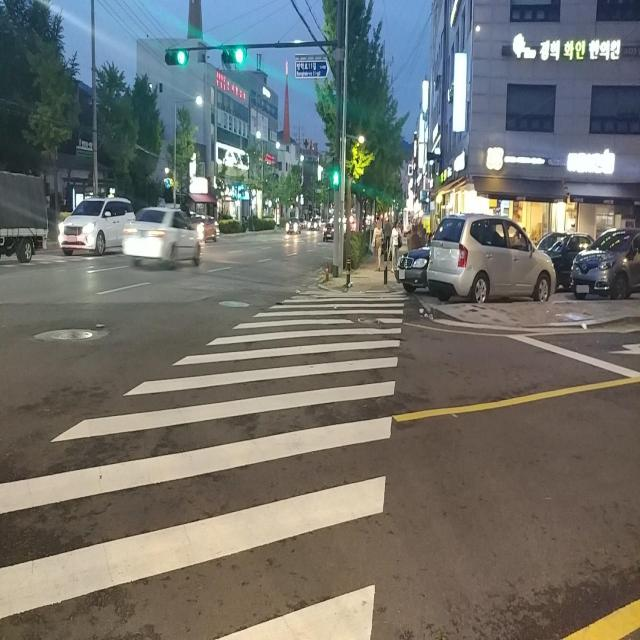초록불: (331, 153, 342, 196)
횡단보도: (0, 288, 412, 640)
